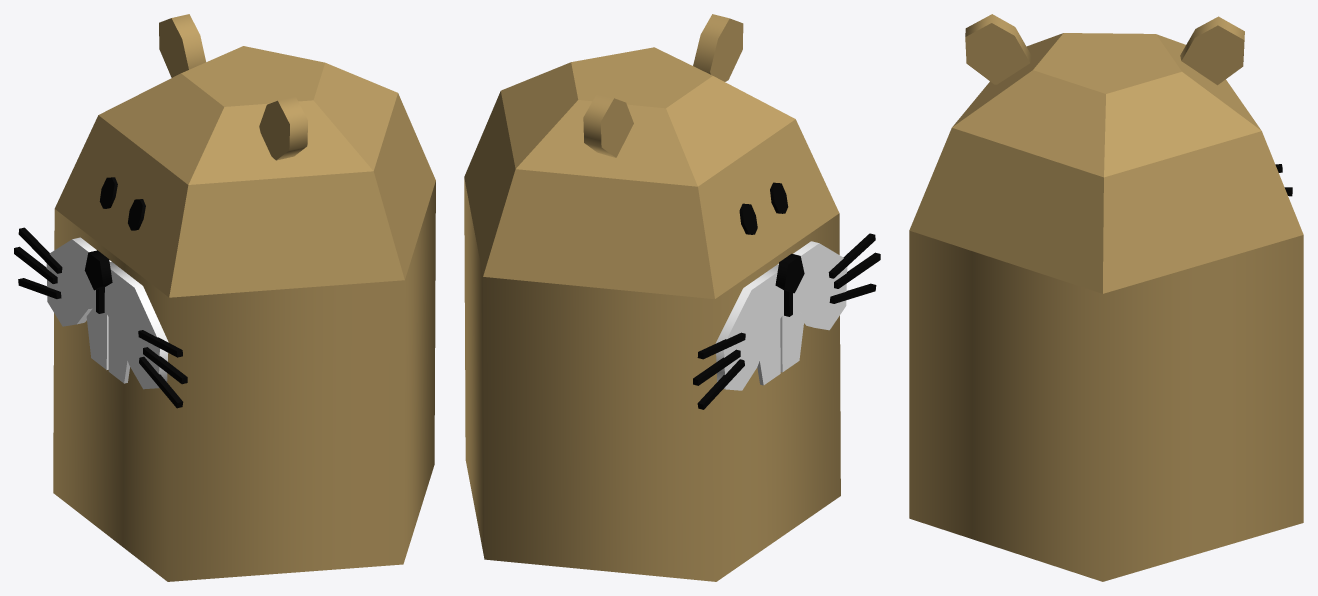
Rendered from mole.fbx.
3 views of the same model, side by side, from view 1: azimuth 30°, elevation 25°; view 2: azimuth 150°, elevation 25°; view 3: azimuth 270°, elevation 25° (orthographic). The views are drawn at different scales.
Visible parts, largest first — view 1: Cone001; view 2: Cone001; view 3: Cone001.
Part boxes in pixels (box(x1,y1,x2,y2)): Cone001: box(14, 14, 435, 581); Cone001: box(464, 14, 880, 581); Cone001: box(909, 14, 1303, 581).
Size of the model in its own units: 0.4777 by 0.616 by 0.4754.
